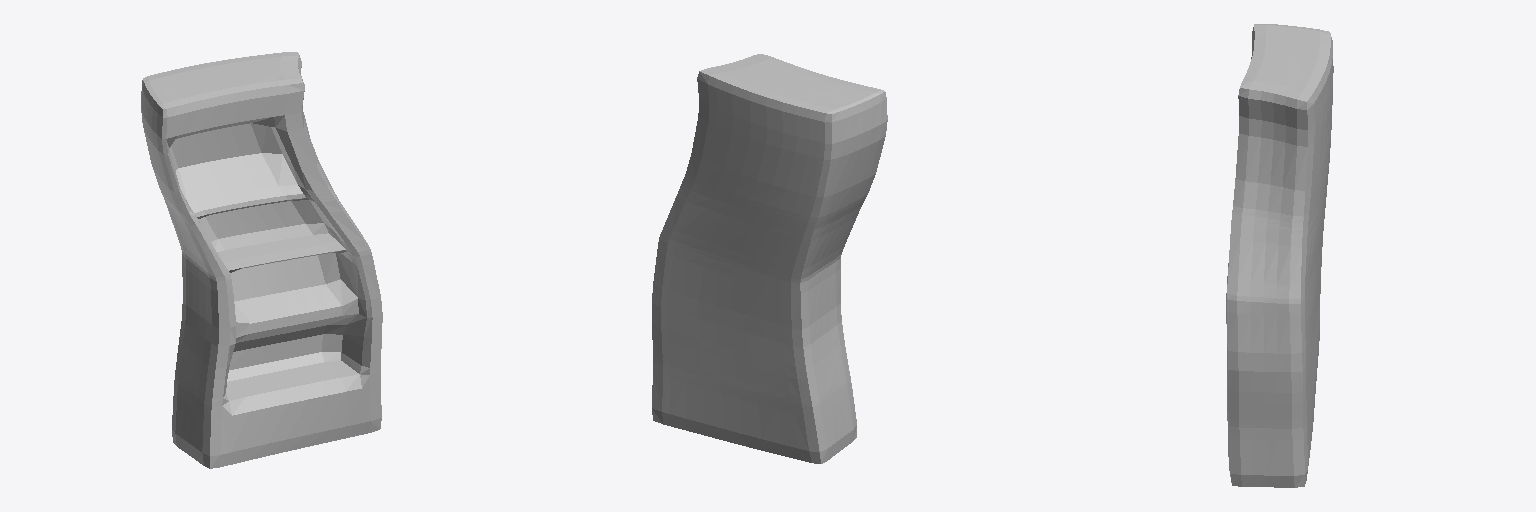
File: BOOKSHELDplatform_4.OBJ
3 renders of one model, left to right at view 1: azimuth 30°, elevation 25°; view 2: azimuth 150°, elevation 25°; view 3: azimuth 270°, elevation 25°, orthographic.
Parts seen in each view (by area): view 1: Group2; view 2: Group2; view 3: Group2.
Part boxes in pixels (bbox=[...]): Group2: bbox=[141, 52, 382, 468]; Group2: bbox=[652, 54, 887, 463]; Group2: bbox=[1226, 24, 1333, 487].
Bounding box in the file's own units: 2.43 × 3.95 × 1.05.